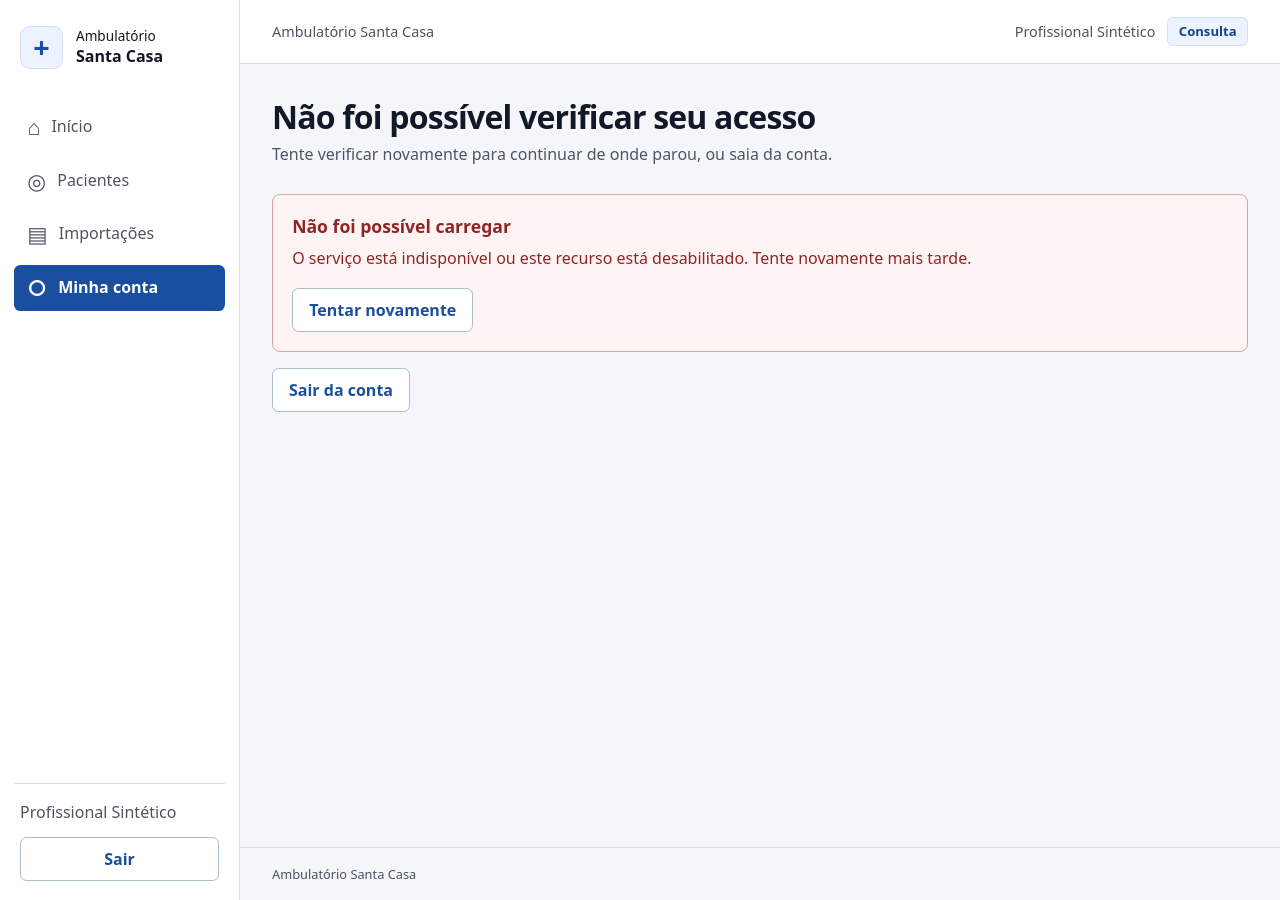
7D-U4.1 — conta, falha de identidade e página desconhecida › falha de identidade permite saída explícita e apaga a identidade
Click the button "Sair da conta": point(341, 390) [272,368,410,412]
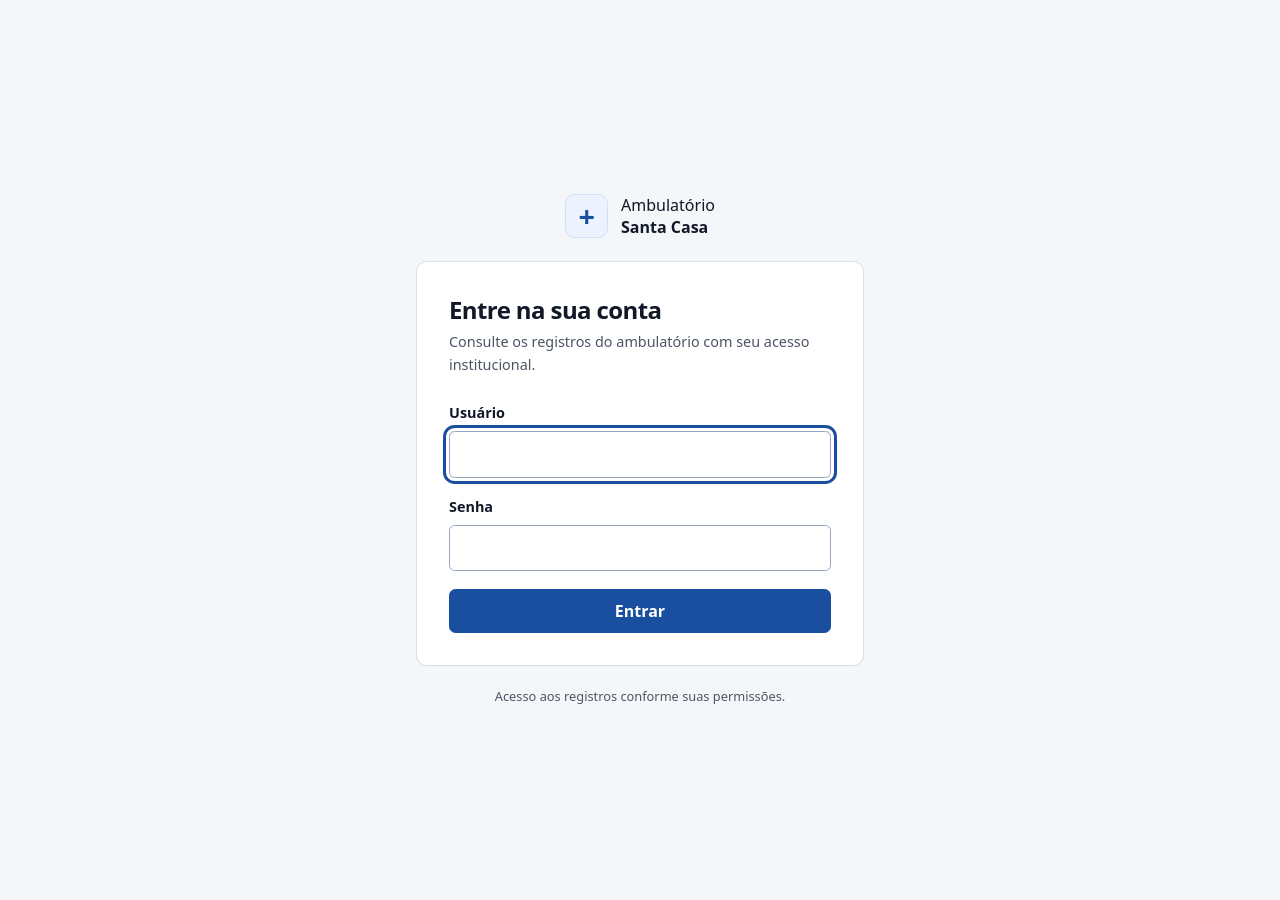
Expected: the heading "Entre na sua conta" is shown, [449,293,662,326]
